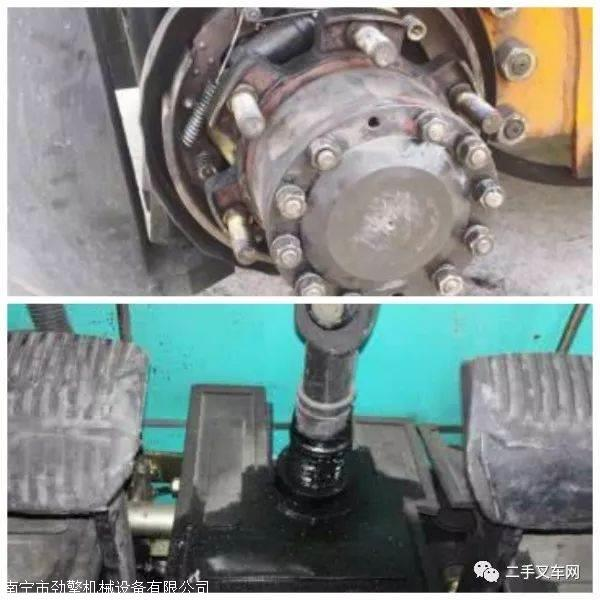oil: (168, 431, 520, 581)
